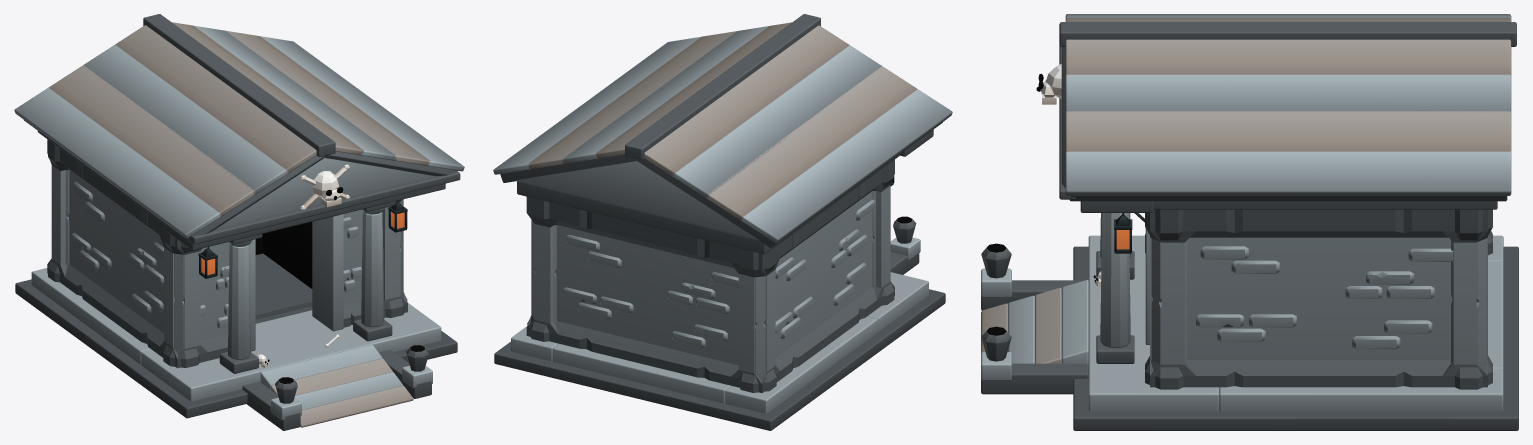
Rendered from crypt_entrance.glb.
3 views of the same model, side by side, from view 1: azimuth 30°, elevation 25°; view 2: azimuth 150°, elevation 25°; view 3: azimuth 270°, elevation 25° (orthographic). The views are drawn at different scales.
Visible parts, largest first — view 1: crypt_entrance; view 2: crypt_entrance; view 3: crypt_entrance.
Part boxes in pixels (<box>): crypt_entrance: <box>14,14,464,430</box>; crypt_entrance: <box>493,14,952,430</box>; crypt_entrance: <box>981,14,1518,430</box>.
Bounding box in the file's own units: 5.45 × 4.63 × 7.
Materials: 3 (3 with a texture image).
